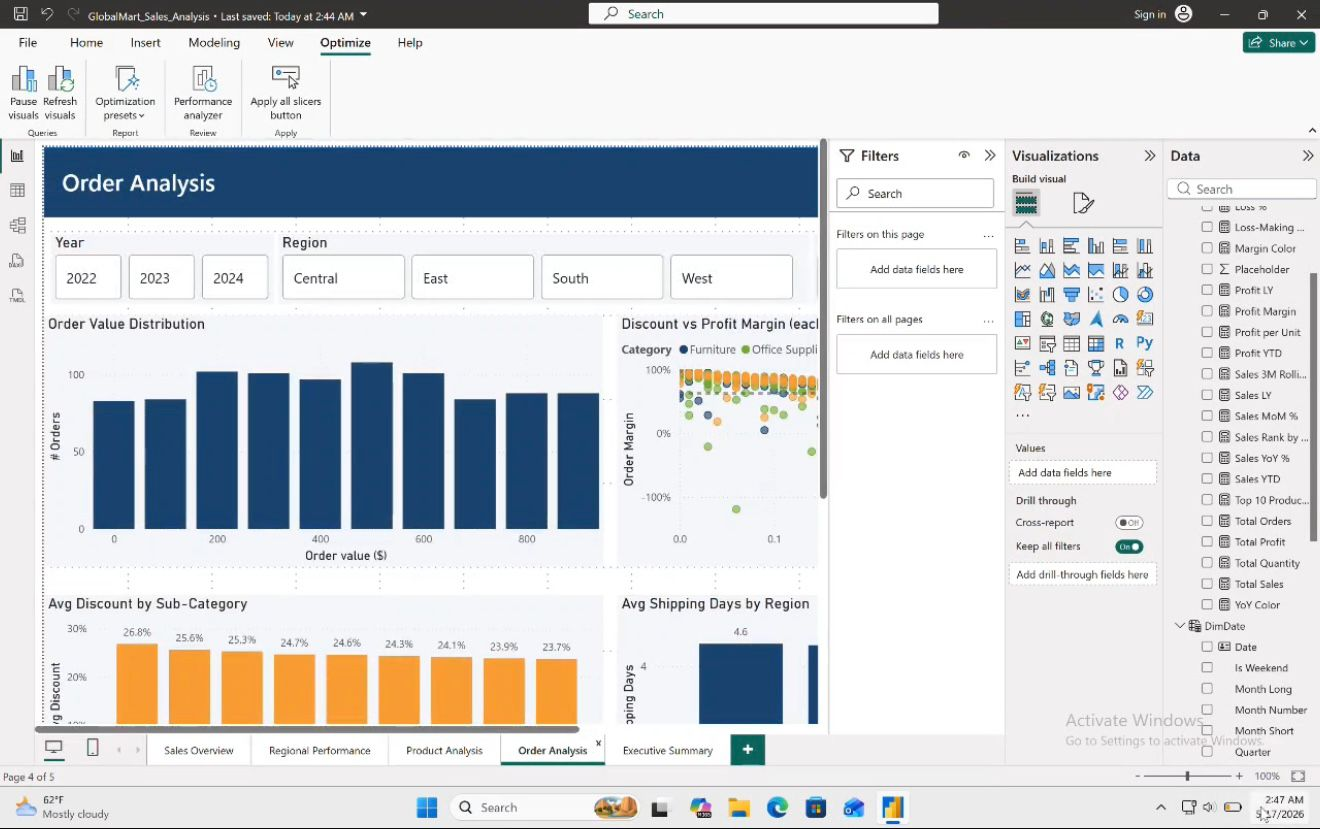

Layout of this report page (visuals, bound fields, positions):
{"tool":"powerbi","page":{"name":"Order Analysis","canvas":[1280,1080],"ordinal":3},"visuals":[{"type":"group","id":"g1","title":"Group 1","box":[0,0,1280,80],"z":0},{"type":"shape","box":[0,0,1280,80],"z":0,"group":"g1"},{"type":"advancedSlicerVisual","fields":{"Values":["Sales.Region"]},"box":[268.2,99.3,608,80],"z":1},{"type":"advancedSlicerVisual","fields":{"Values":["DimDate.Year"]},"box":[8.3,99.3,256,80],"z":2},{"type":"advancedSlicerVisual","fields":{"Values":["Sales.Category"]},"box":[880,99.3,400,80],"z":3},{"type":"clusteredColumnChart","title":"Order Value Distribution","fields":{"Category":["Sales.Sales (bins)"],"Y":["_Measures.Total Orders"]},"box":[0,192,640,288],"z":4},{"type":"scatterChart","title":"Discount vs Profit Margin (each dot = one order)","fields":{"X":["Sum(Sales.Discount)"],"Y":["Sum(Sales.Order Margin)"],"Series":["Sales.Category"],"Category":["Sales.Order ID"]},"box":[656,192,624,288],"z":5},{"type":"clusteredColumnChart","title":"Avg Discount by Sub-Category","fields":{"Category":["Sales.Sub-Category"],"Y":["_Measures.Avg Discount"]},"box":[0,512,640,288],"z":6},{"type":"clusteredColumnChart","title":"Avg Shipping Days by Region","fields":{"Category":["Sales.Region"],"Y":["_Measures.Avg Shipping Days"]},"box":[656,512,624,288],"z":7},{"type":"cardVisual","title":"Orders with Discount ≥ 30%","fields":{"Data":["_Measures.High Discount Orders"]},"box":[0,810,640,270],"z":8},{"type":"actionButton","box":[1168,16,32,48],"z":9},{"type":"actionButton","box":[1216,16,48,48],"z":10},{"type":"textbox","box":[16,16,288,48],"z":1000,"group":"g1"}]}

Visuals, with their boxes on the page's 1280x1080 design canvas (x1, y1, x2, y2). These are canvas units, not pixel positions in the 1320x829 screenshot, which may show the page scaled, cropped or inside an application window:
"Group 1" group: box(0, 0, 1280, 80)
shape: box(0, 0, 1280, 80)
advancedSlicerVisual - Sales.Region: box(268, 99, 876, 179)
advancedSlicerVisual - DimDate.Year: box(8, 99, 264, 179)
advancedSlicerVisual - Sales.Category: box(880, 99, 1280, 179)
"Order Value Distribution" clusteredColumnChart: box(0, 192, 640, 480)
"Discount vs Profit Margin (each dot = one order)" scatterChart: box(656, 192, 1280, 480)
"Avg Discount by Sub-Category" clusteredColumnChart: box(0, 512, 640, 800)
"Avg Shipping Days by Region" clusteredColumnChart: box(656, 512, 1280, 800)
"Orders with Discount ≥ 30%" cardVisual: box(0, 810, 640, 1080)
actionButton: box(1168, 16, 1200, 64)
actionButton: box(1216, 16, 1264, 64)
textbox: box(16, 16, 304, 64)
